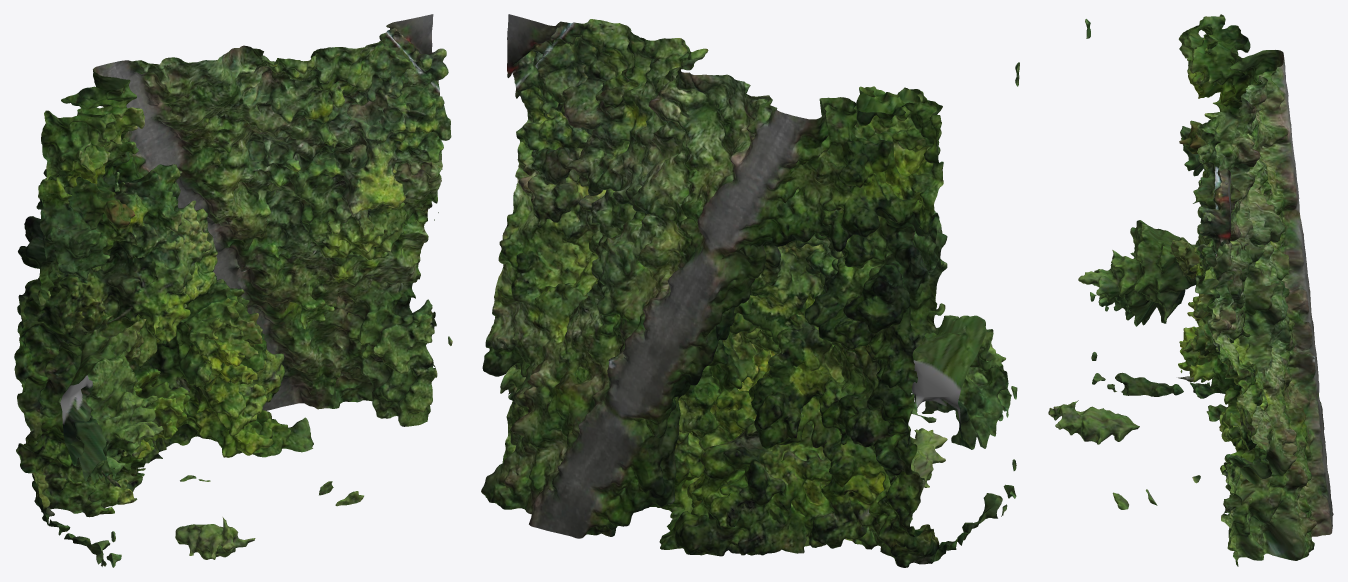
The model's file is Tile_+005_+008.fbx.
3 renders of one model, left to right at view 1: azimuth 30°, elevation 25°; view 2: azimuth 150°, elevation 25°; view 3: azimuth 270°, elevation 25°, orthographic. The views are drawn at different scales.
Parts seen in each view (by area): view 1: DefaultName; view 2: DefaultName; view 3: DefaultName.
Part boxes in pixels (x1,y1,x2,y2): DefaultName: (14, 14, 452, 567); DefaultName: (481, 14, 1019, 567); DefaultName: (1048, 14, 1333, 566).
Size of the model in its own units: 22.54 by 22.54 by 15.42.
